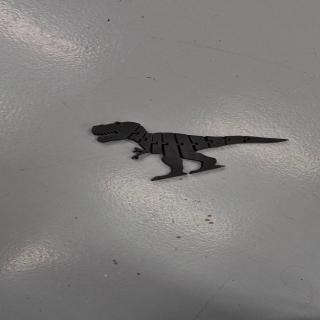dino: (90, 121, 290, 181)
